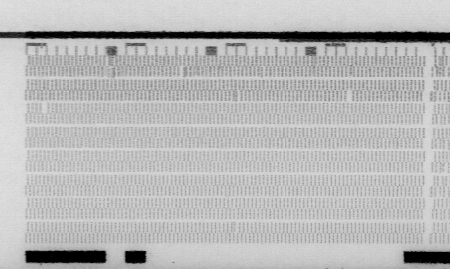Broken hole: (39, 101, 51, 115), (345, 90, 355, 103)
Oblique printing: (431, 56, 450, 105), (430, 161, 450, 186), (103, 55, 119, 78), (442, 197, 450, 233), (231, 88, 243, 101), (257, 65, 269, 78), (177, 65, 189, 77)
